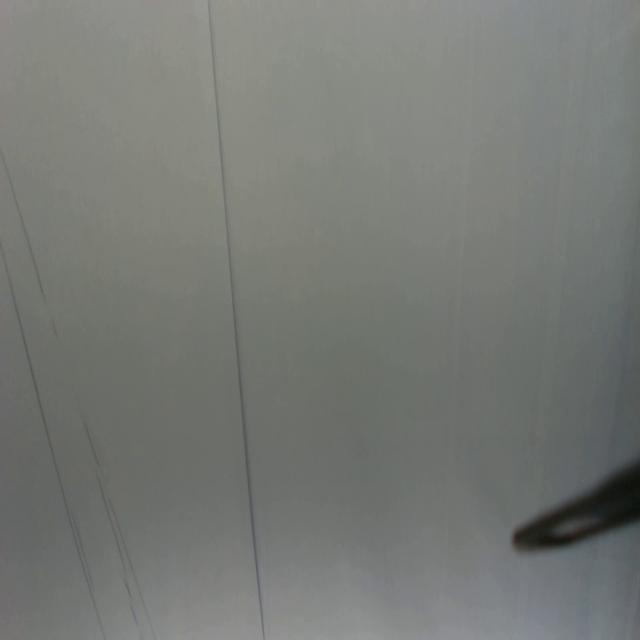crease: (1, 242, 109, 638), (204, 1, 270, 640), (80, 400, 161, 638), (0, 121, 67, 336)
